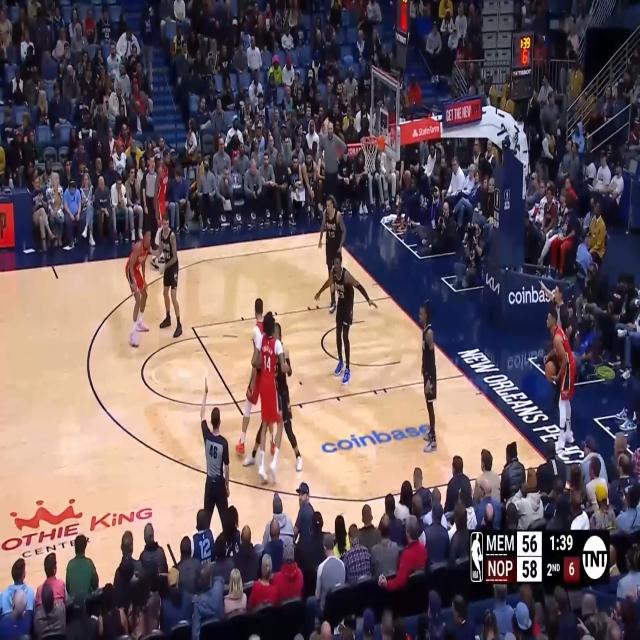Ball: (545, 359, 556, 384)
Clock: (512, 32, 533, 70), (397, 0, 407, 34)
Hoop: (360, 135, 381, 174)
Overlay: (469, 529, 610, 588)
Player: (244, 320, 303, 473), (314, 250, 378, 385), (233, 295, 278, 457), (255, 308, 289, 483), (540, 308, 576, 450), (149, 214, 183, 338), (123, 224, 153, 349), (318, 193, 346, 315), (418, 298, 438, 452), (149, 147, 171, 271)
Ref: (200, 376, 231, 561), (552, 282, 572, 413), (142, 148, 161, 249)
Scoreboard: (484, 529, 580, 585)
